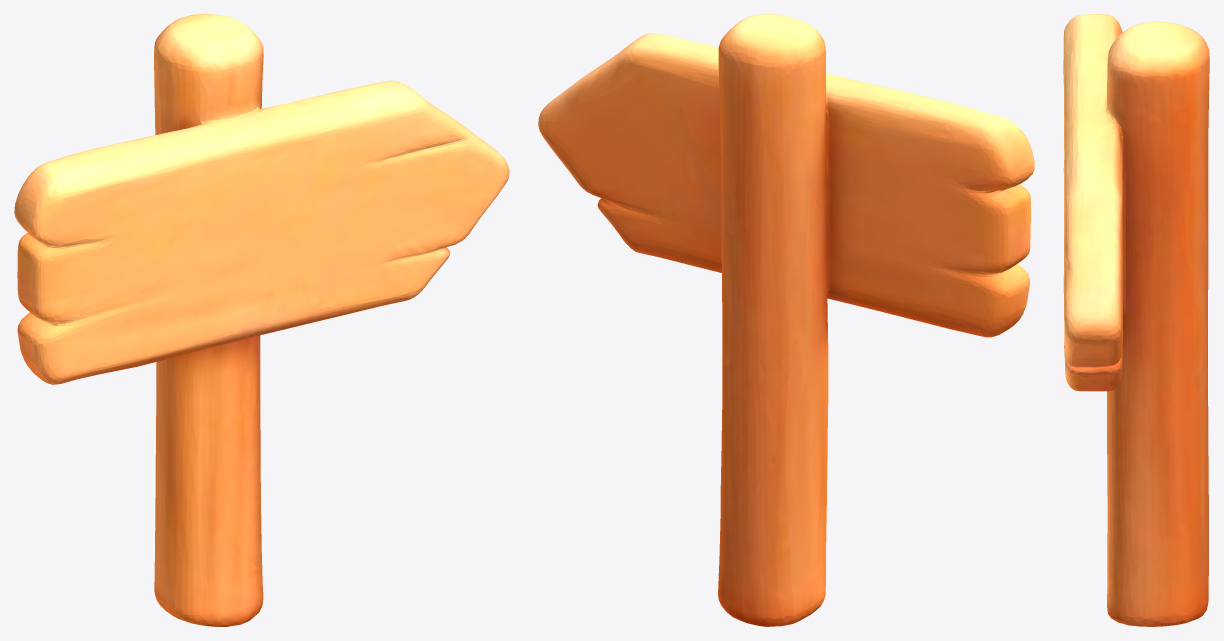
The model's file is signpost.glb.
The picture shows the model from 3 angles, left to right: view 1: azimuth 30°, elevation 25°; view 2: azimuth 150°, elevation 25°; view 3: azimuth 270°, elevation 25°; orthographic projection.
Visible parts, largest first — view 1: tripo_mesh_cafcc838-6b7c-45ab-82f7-036f70288962; view 2: tripo_mesh_cafcc838-6b7c-45ab-82f7-036f70288962; view 3: tripo_mesh_cafcc838-6b7c-45ab-82f7-036f70288962.
Boxes of the visible parts, x1,y1,x2,y2 form: tripo_mesh_cafcc838-6b7c-45ab-82f7-036f70288962: (14,14,509,626); tripo_mesh_cafcc838-6b7c-45ab-82f7-036f70288962: (538,14,1034,626); tripo_mesh_cafcc838-6b7c-45ab-82f7-036f70288962: (1063,14,1209,626).
Bounding box in the file's own units: 0.8615 × 1 × 0.2306.
Materials: 1 (1 with a texture image).
